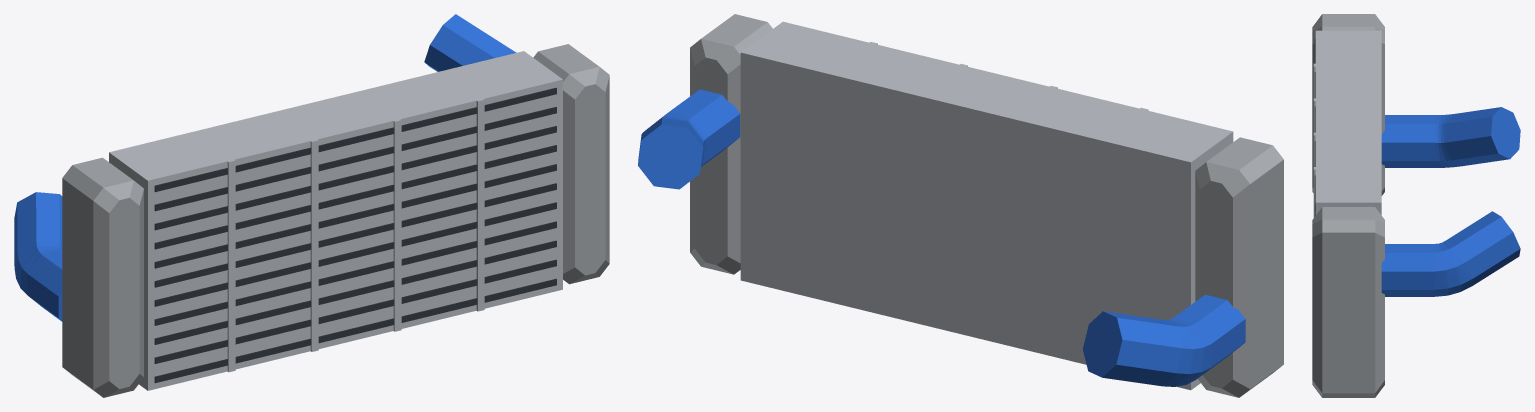
File: brute_500.glb
3 views of the same model, side by side, from view 1: azimuth 30°, elevation 25°; view 2: azimuth 150°, elevation 25°; view 3: azimuth 270°, elevation 25° (orthographic). The views are drawn at different scales.
Visible parts, largest first — view 1: model; view 2: model; view 3: model.
Boxes of the visible parts, <box> form: model: <box>14,14,609,397</box>; model: <box>638,14,1283,397</box>; model: <box>1312,14,1520,397</box>.
Size of the model in its own units: 0.612 by 0.238 by 0.2519.
Materials: 2 (1 with a texture image).
